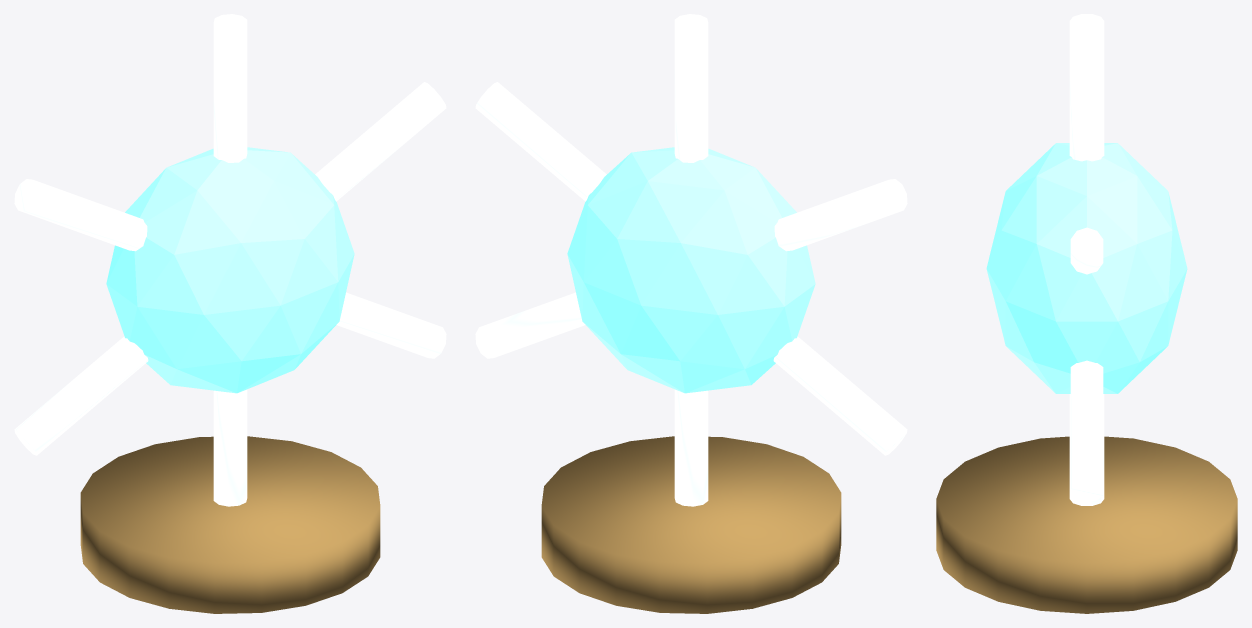
The model's file is relic-frostStar.glb.
The picture shows the model from 3 angles, left to right: view 1: azimuth 30°, elevation 25°; view 2: azimuth 150°, elevation 25°; view 3: azimuth 270°, elevation 25°; orthographic projection.
Visible parts, largest first — view 1: relic-frostStar / Glass | luminous mint, relic-frostStar / Brass | machined champagne, relic-frostStar / Relic | mother of pearl; view 2: relic-frostStar / Glass | luminous mint, relic-frostStar / Brass | machined champagne, relic-frostStar / Relic | mother of pearl; view 3: relic-frostStar / Brass | machined champagne, relic-frostStar / Glass | luminous mint, relic-frostStar / Relic | mother of pearl.
Boxes of the visible parts, box(x1,y1,x2,y2) form: relic-frostStar / Glass | luminous mint: box(106, 147, 354, 393); relic-frostStar / Brass | machined champagne: box(80, 436, 380, 613); relic-frostStar / Relic | mother of pearl: box(14, 14, 446, 506); relic-frostStar / Glass | luminous mint: box(567, 147, 815, 393); relic-frostStar / Brass | machined champagne: box(541, 436, 841, 613); relic-frostStar / Relic | mother of pearl: box(475, 14, 907, 506); relic-frostStar / Brass | machined champagne: box(936, 436, 1237, 613); relic-frostStar / Glass | luminous mint: box(986, 143, 1187, 393); relic-frostStar / Relic | mother of pearl: box(1069, 14, 1104, 505).
Bounding box in the file's own units: 1.56 × 1.86 × 0.96.
